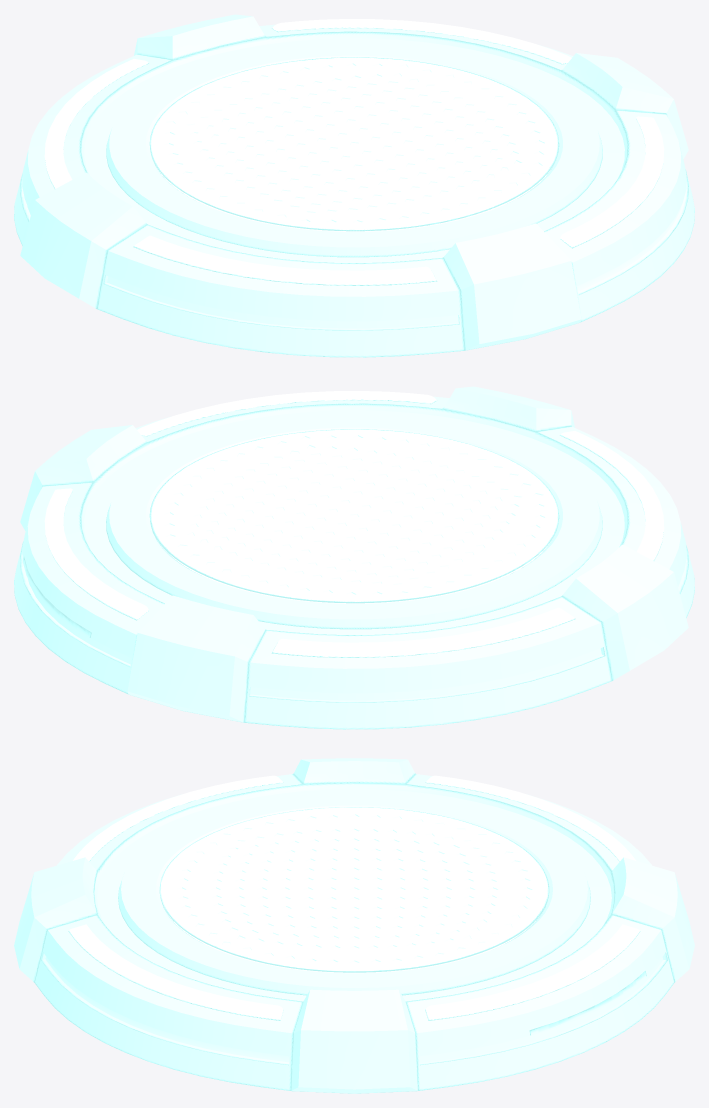
File: tech_pedestal.glb
The picture shows the model from 3 angles, top to bottom: view 1: azimuth 30°, elevation 25°; view 2: azimuth 150°, elevation 25°; view 3: azimuth 270°, elevation 25°; orthographic projection. The views are drawn at different scales.
Parts seen in each view (by area): view 1: tech_pedestal; view 2: tech_pedestal; view 3: tech_pedestal.
Boxes of the visible parts, x1,y1,x2,y2 form: tech_pedestal: [14, 14, 694, 357]; tech_pedestal: [14, 386, 694, 729]; tech_pedestal: [14, 758, 694, 1093].
Bounding box in the file's own units: 24.79 × 3.21 × 24.79.
Materials: 1 (1 with a texture image).
